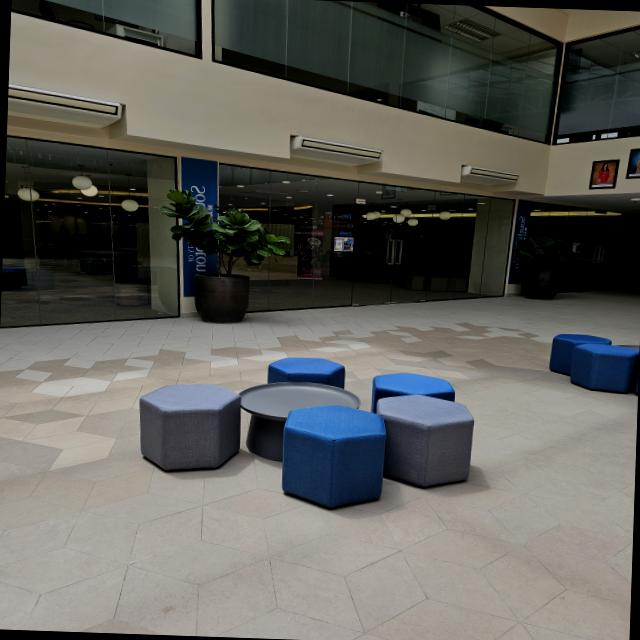footpath: (0, 498, 629, 640)
obstacle: (120, 348, 493, 510), (174, 205, 275, 322), (545, 329, 640, 388)
